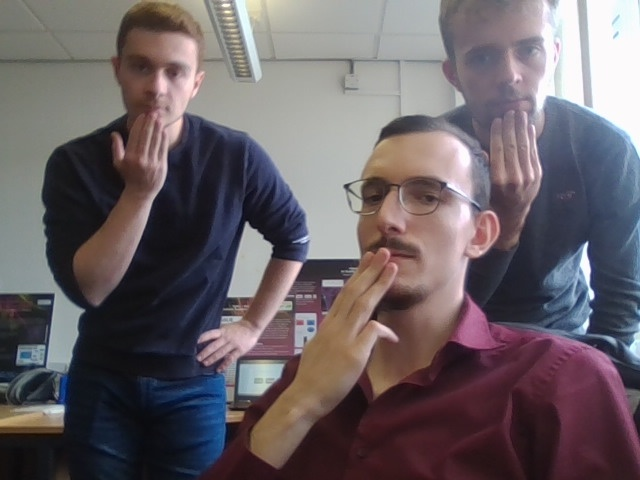livelong: (294, 246, 397, 401), (480, 107, 542, 224), (107, 111, 176, 191)
